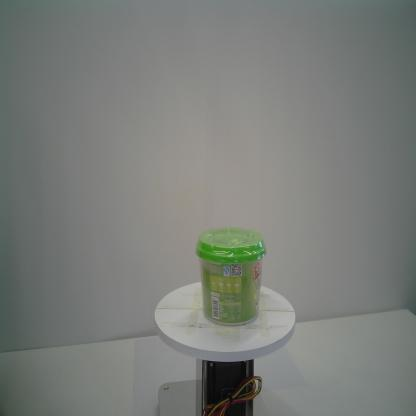Instant Drink: (192, 226, 268, 328)
